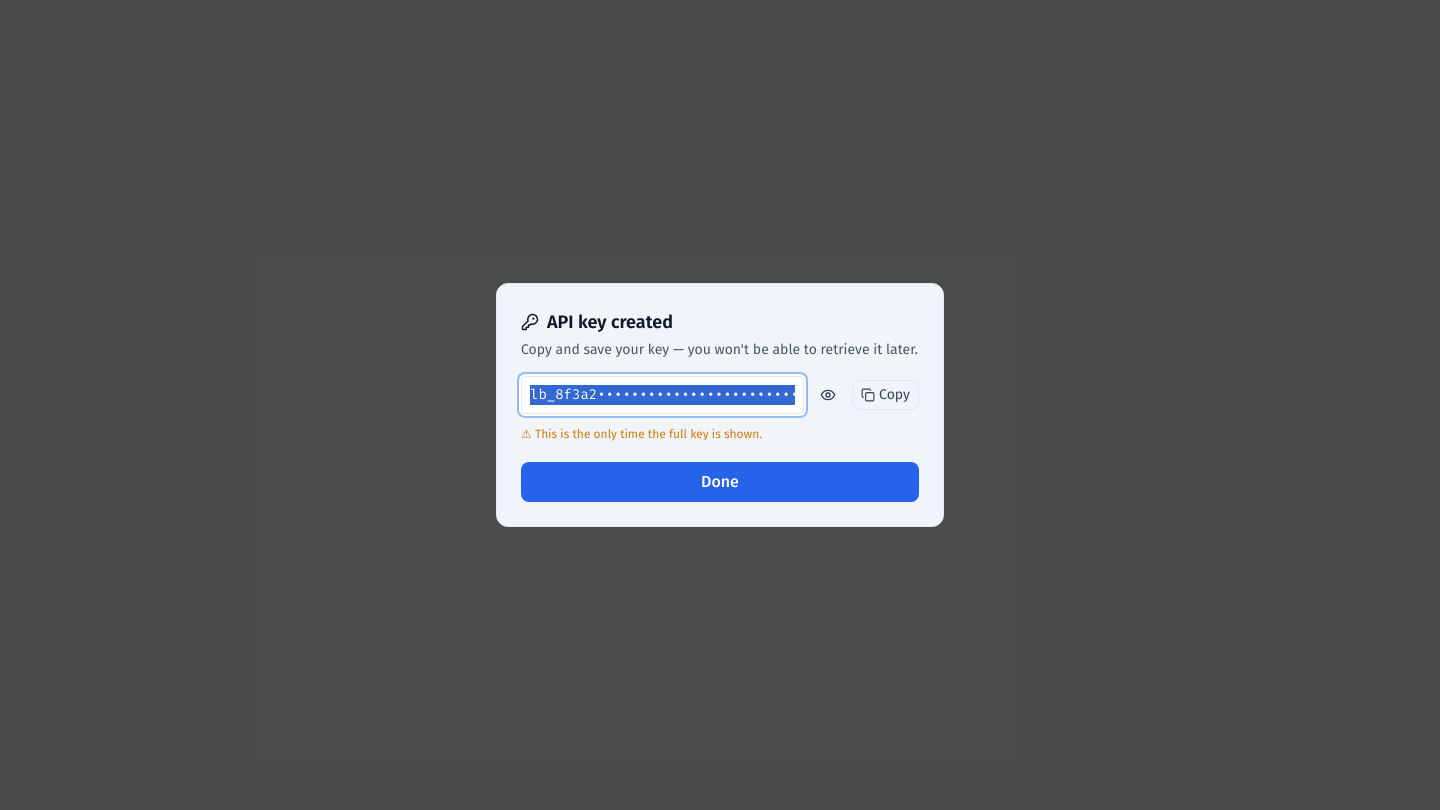
Test: ApiKeyCreatedModal › toggles to show full key on eye click
The width and height of the screenshot is (1440, 810).
Click the button titled "Show key" at x=828, y=395, box [812,379,844,411]
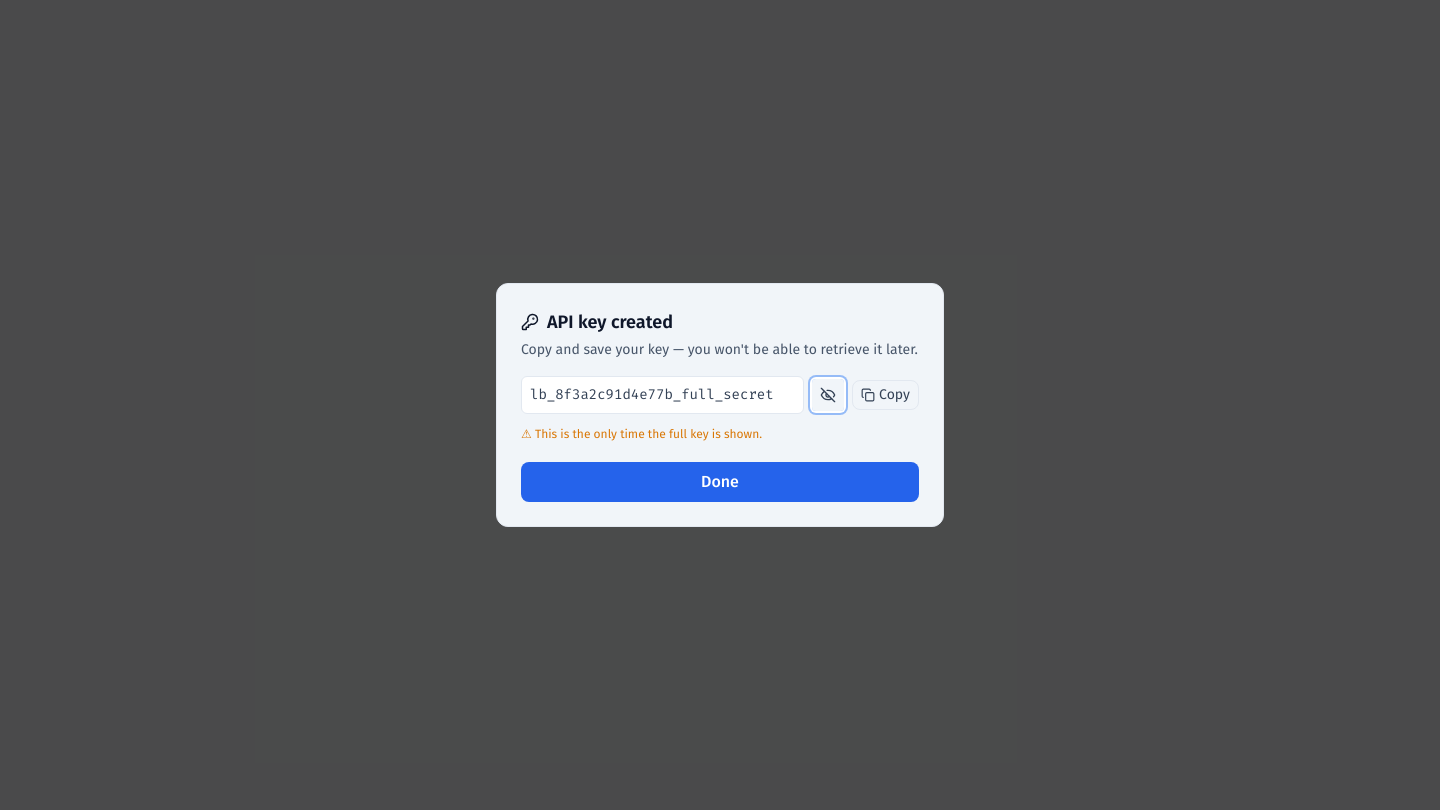
Expected: the field showing "lb_8f3a2c91d4e77b_full_secret" is shown, [521,376,804,414]
